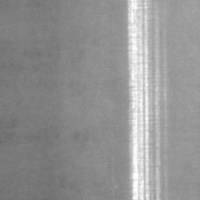scratches: (123, 1, 169, 200)
